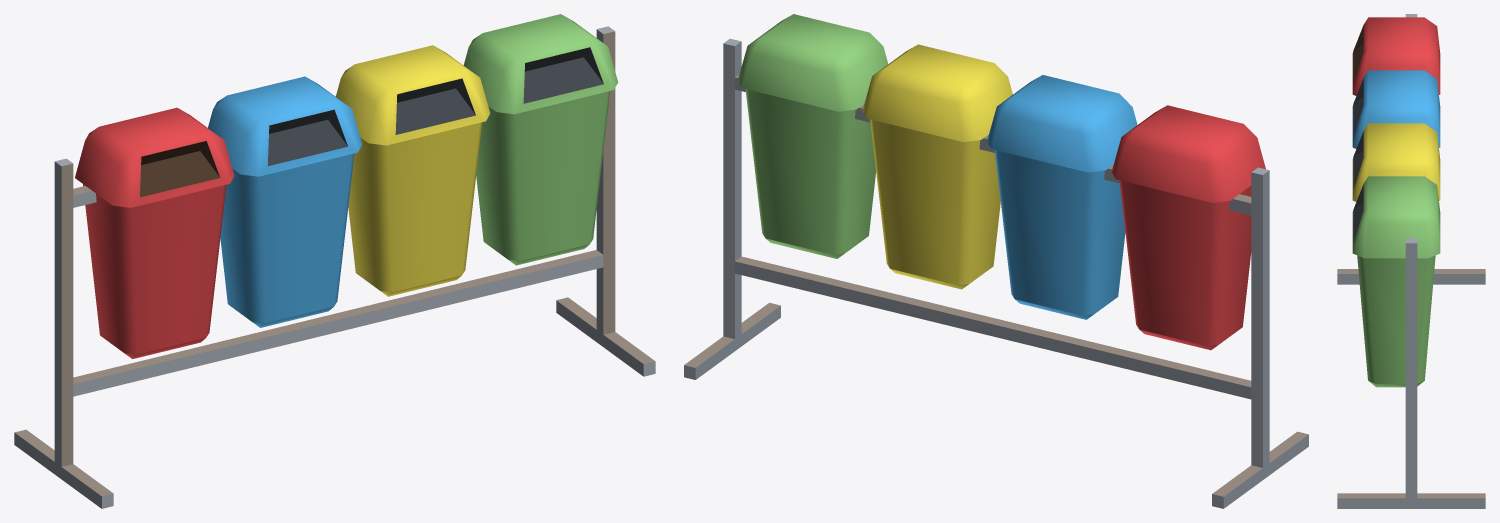
Rendered from trash_06_pacote.glb.
3 renders of one model, left to right at view 1: azimuth 30°, elevation 25°; view 2: azimuth 150°, elevation 25°; view 3: azimuth 270°, elevation 25°, orthographic. The views are drawn at different scales.
Parts seen in each view (by area): view 1: trash_06_pacote; view 2: trash_06_pacote; view 3: trash_06_pacote.
Part boxes in pixels (x1,y1,x2,y2): trash_06_pacote: [14, 14, 655, 508]; trash_06_pacote: [684, 14, 1308, 508]; trash_06_pacote: [1337, 14, 1485, 508].
Size of the model in its own units: 2.16 by 1.24 by 0.5923.
1 material, 1 textured.
